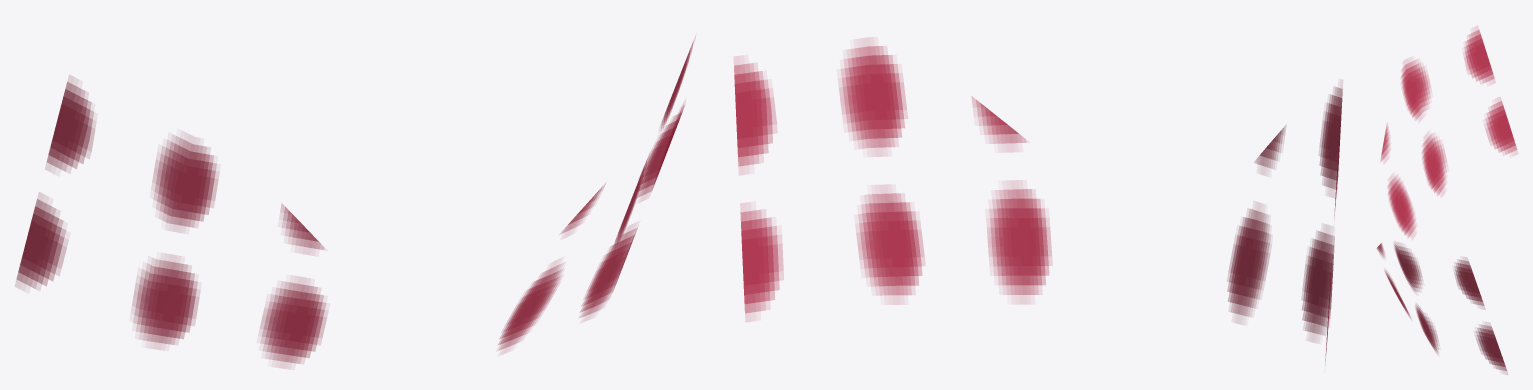
The picture shows the model from 3 angles, left to right: view 1: azimuth 30°, elevation 25°; view 2: azimuth 150°, elevation 25°; view 3: azimuth 270°, elevation 25°; orthographic projection. The views are drawn at different scales.
Parts seen in each view (by area): view 1: ef_515; view 2: ef_515; view 3: ef_515.
Boxes of the visible parts, x1,y1,x2,y2 form: ef_515: [15, 36, 695, 368]; ef_515: [734, 37, 1342, 364]; ef_515: [1377, 26, 1517, 374].
Size of the model in its own units: 0.7987 by 0.4299 by 0.2739.
1 material, 1 textured.
